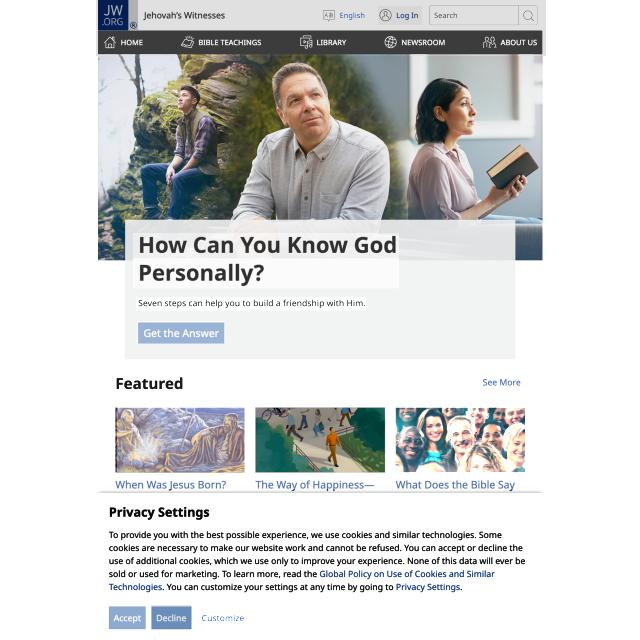CheckBox: (137, 321, 225, 344), (195, 605, 251, 630), (151, 605, 191, 630), (108, 605, 146, 630), (378, 6, 422, 25), (321, 8, 368, 24), (481, 374, 523, 389)
CheckedTextView: (428, 3, 540, 27)
Input field: (136, 297, 366, 311)
bag: (96, 0, 546, 56)
breadcrumbs: (113, 374, 188, 393)
card: (99, 56, 542, 219)
copy: (255, 407, 385, 473), (396, 407, 526, 473), (117, 406, 246, 472)
date picker: (98, 0, 138, 30)
decoration: (98, 30, 543, 56)
header: (98, 489, 541, 638)
image: (133, 233, 399, 290)
